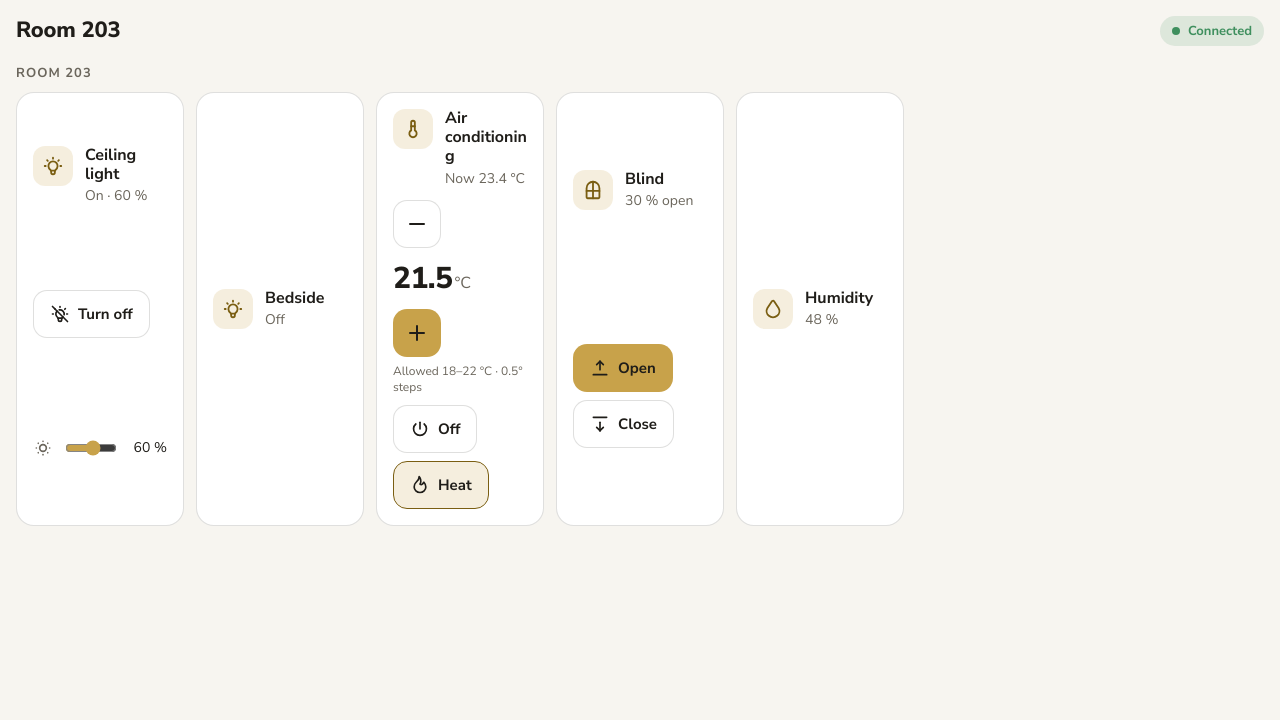
Scenario: sends the next step as a decimal string and shows it right away
Click the button named "Raise target" at (417, 333), box top-left (393, 309), bottom-right (441, 357)
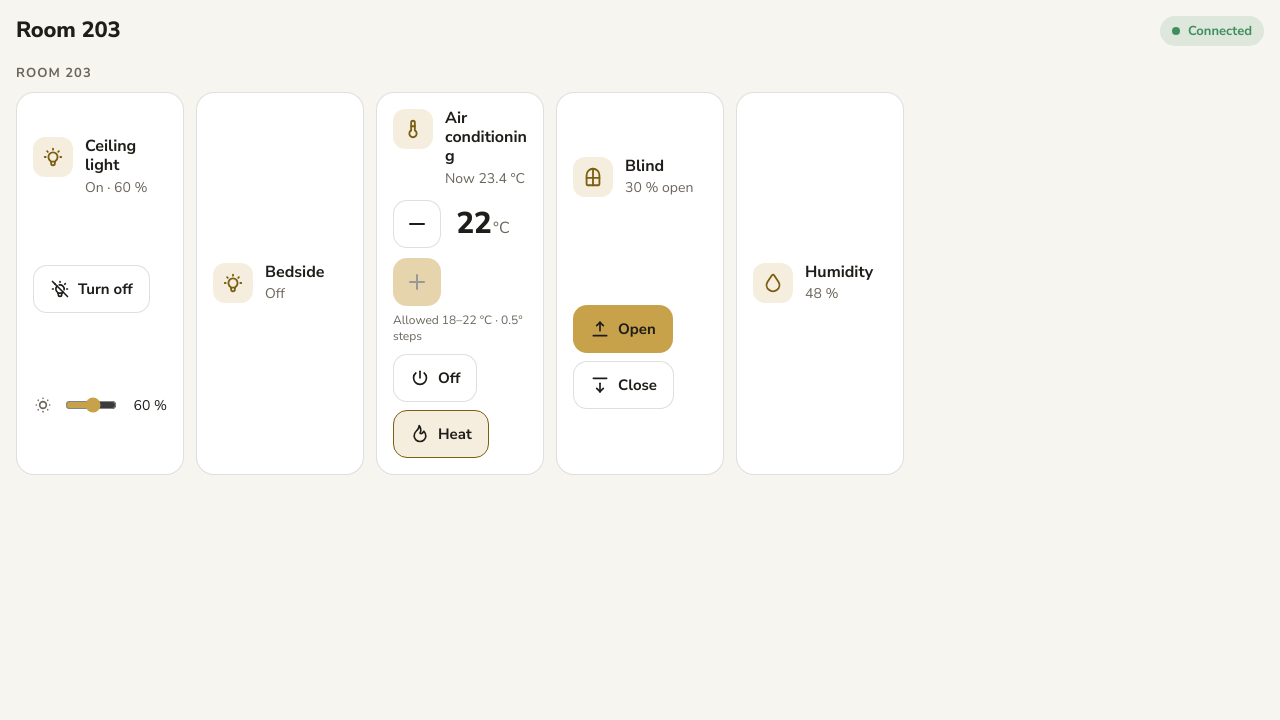
Expected: the button named "Raise target" is disabled, top-left (393, 258), bottom-right (441, 306)
